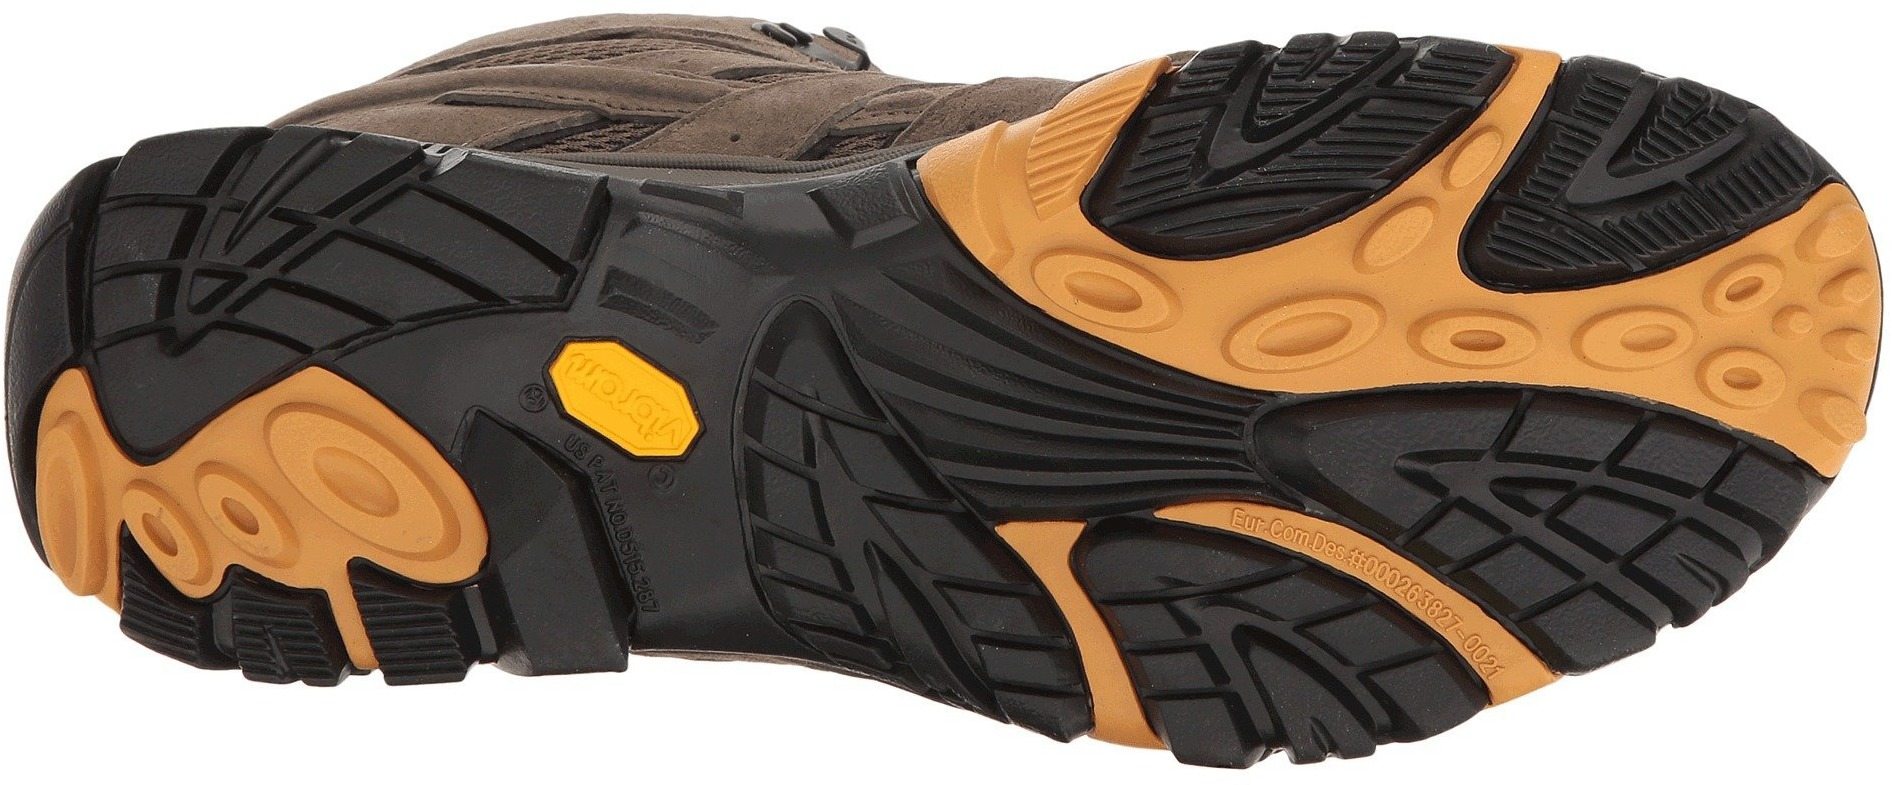chevron: (751, 376, 1039, 658), (716, 280, 953, 520), (132, 125, 399, 330), (1205, 37, 1400, 188)
circle: (182, 351, 480, 621), (1684, 251, 1867, 424), (1217, 242, 1397, 402)
exclude: (189, 0, 1170, 189), (630, 650, 904, 784)
line: (182, 351, 480, 621), (1023, 134, 1144, 248)
quad: (751, 376, 1039, 658), (716, 280, 953, 520), (132, 125, 399, 330)
triangle: (132, 125, 399, 330)
